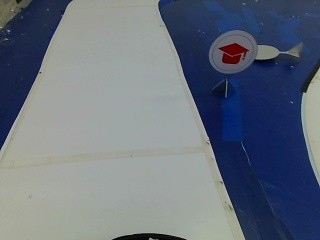school: (208, 28, 258, 76)
